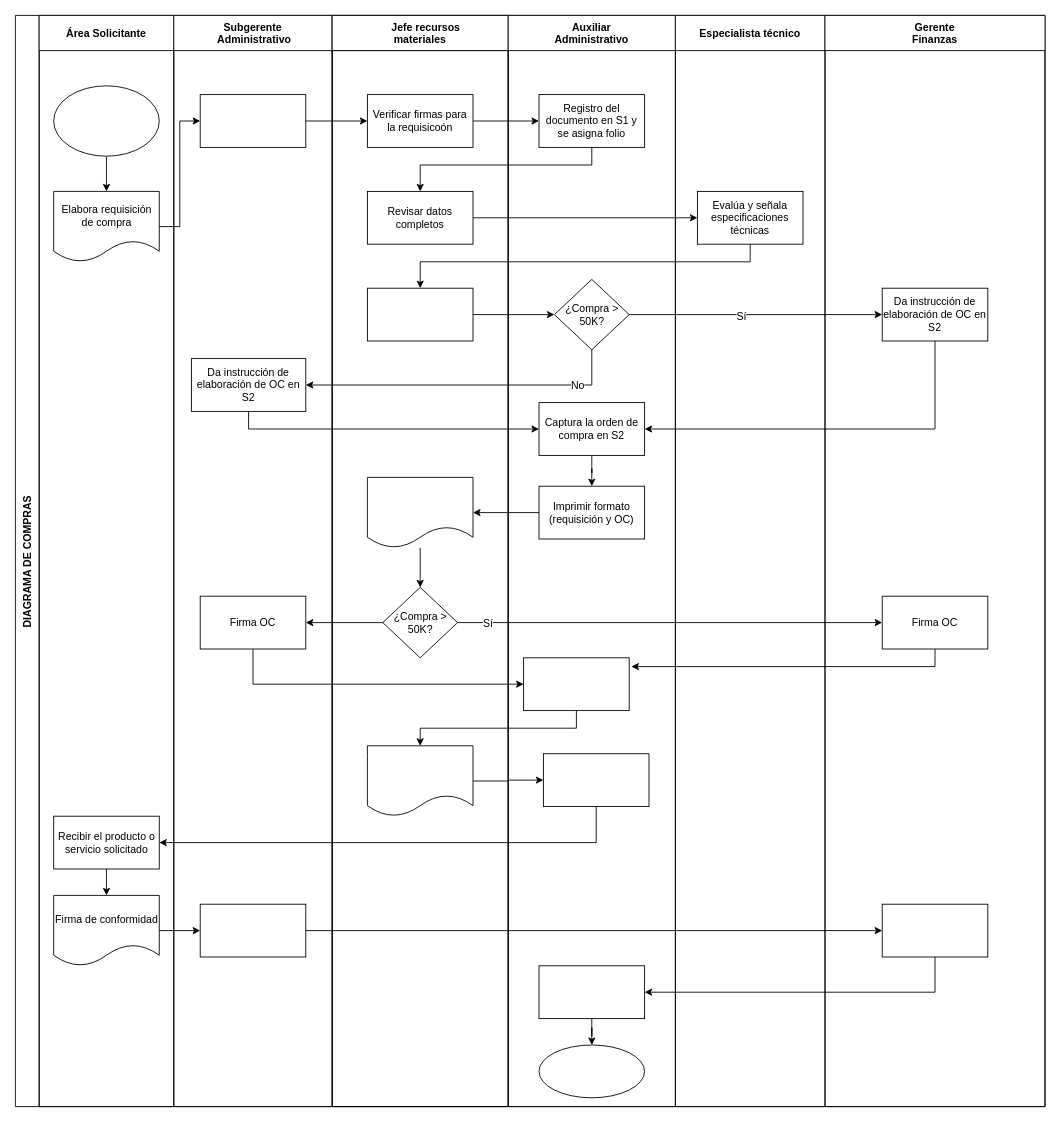
This 1060x1122 diagram has some shape labels left out. Here are the shapes that lost their labels. From the top down, the centre of each, then its label:
(106,120): Inicio
(252,120): Revisar la requisición y firma
(420,314): Revisión y realice procedimiento necesario
(420,512): Recibe orden de compra
(576,684): Fincar el pedido al proveedor
(420,780): Elabora contrato y da seguimiento
(596,780): Entrega contrato al proveedor para su firma
(252,930): Elaborar solicitud de cheque y se obtiene de tesorería
(934,930): Firma del Cheque
(591,992): Entrega del cheque al proveedor
(591,1071): Fin
